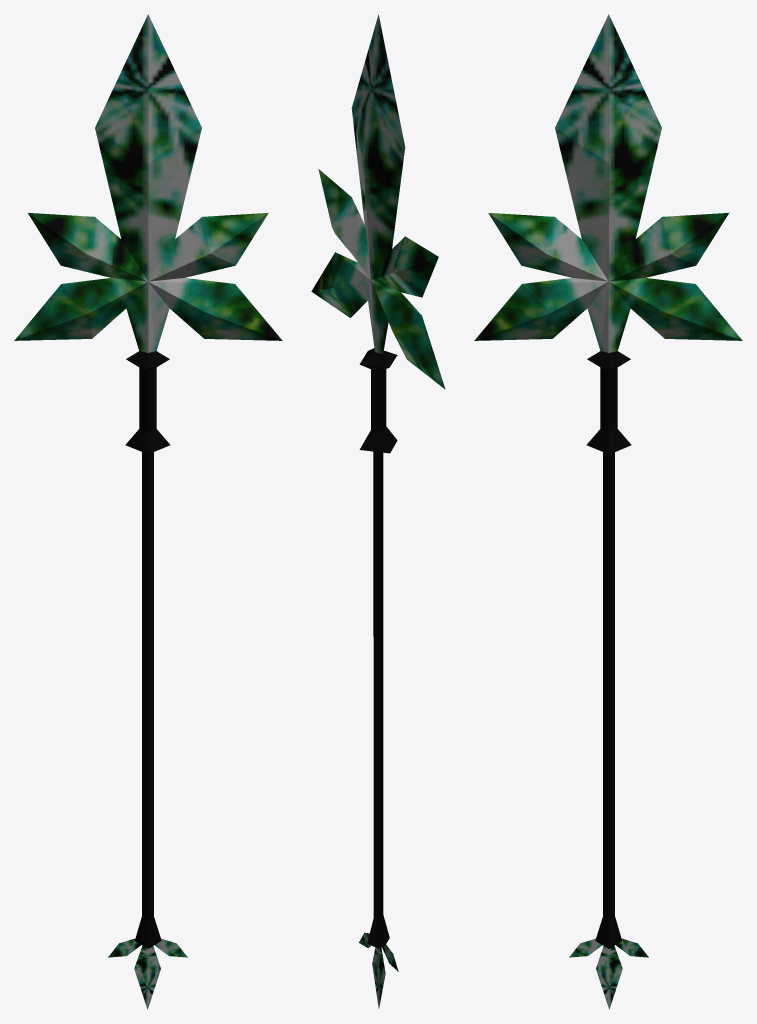
The model's file is longarm07_1.obj.
3 renders of one model, left to right at view 1: azimuth 90°, elevation 25°; view 2: azimuth 210°, elevation 25°; view 3: azimuth 270°, elevation 25°, orthographic.
Visible parts, largest first — view 1: longarm07_1; view 2: longarm07_1; view 3: longarm07_1.
Part boxes in pixels (x1,y1,x2,y2): longarm07_1: (14,14,282,1009); longarm07_1: (311,14,445,1008); longarm07_1: (474,14,742,1009).
Size of the model in its own units: 0.0988 by 2.45 by 0.5988.
